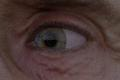eye: (35, 29, 66, 50)
